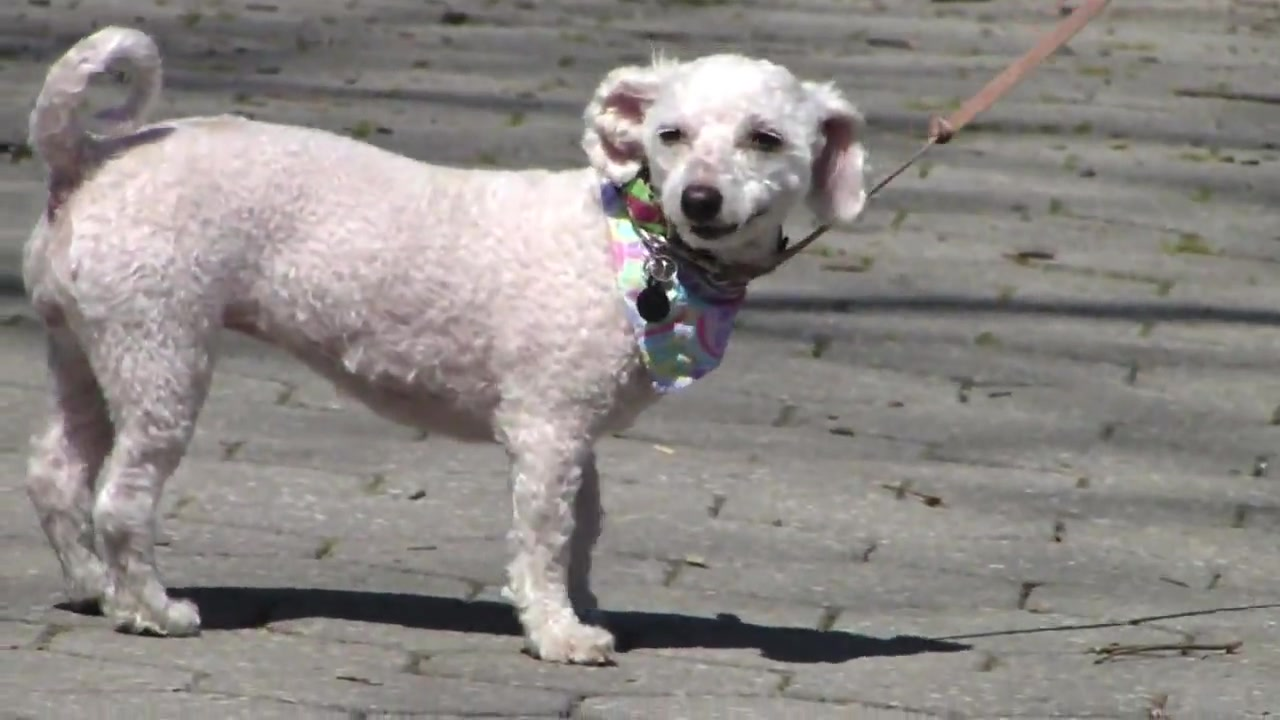dog: (19, 23, 871, 669)
